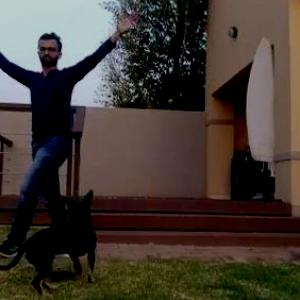takeoff: (0, 19, 158, 258)
